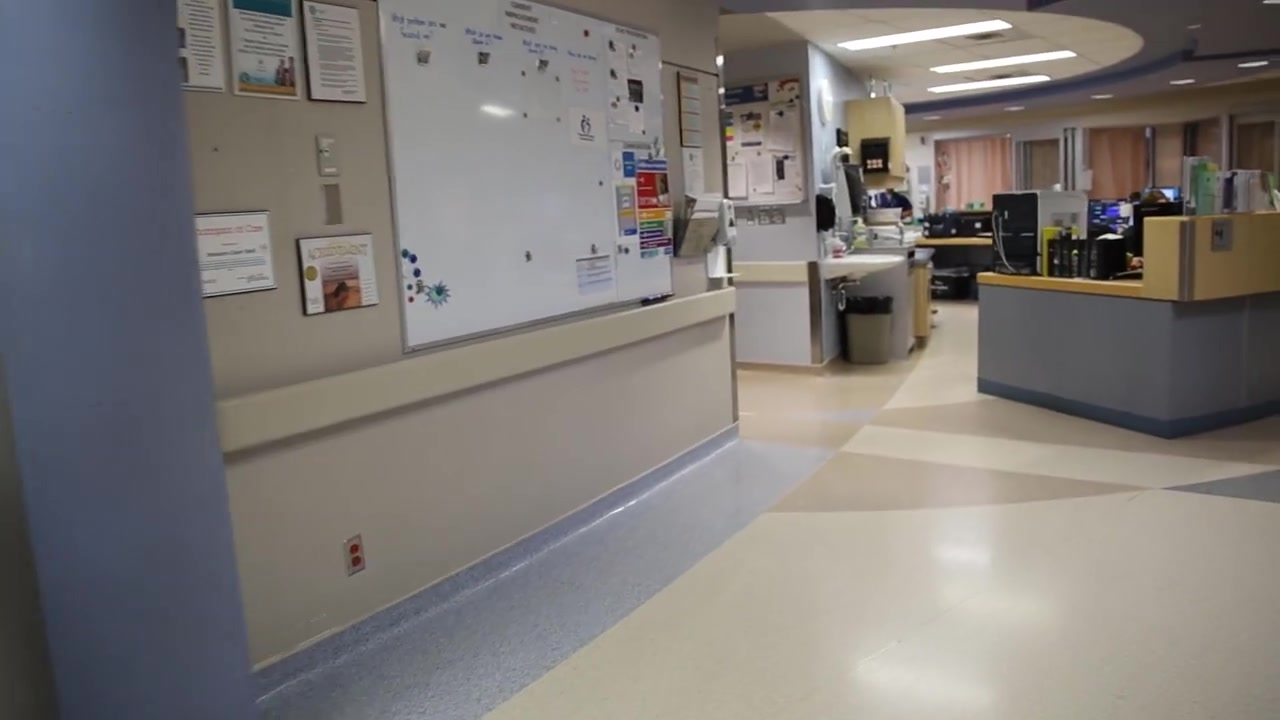cabinet: (849, 93, 907, 179)
counter: (978, 210, 1278, 440)
curtain: (934, 132, 1014, 211), (1087, 130, 1141, 197)
dispenser: (704, 199, 743, 279), (836, 165, 868, 222), (816, 197, 837, 235)
hallway_assist_bar: (224, 285, 737, 456)
sink: (822, 254, 906, 281)
waste_bin: (841, 295, 893, 365)
